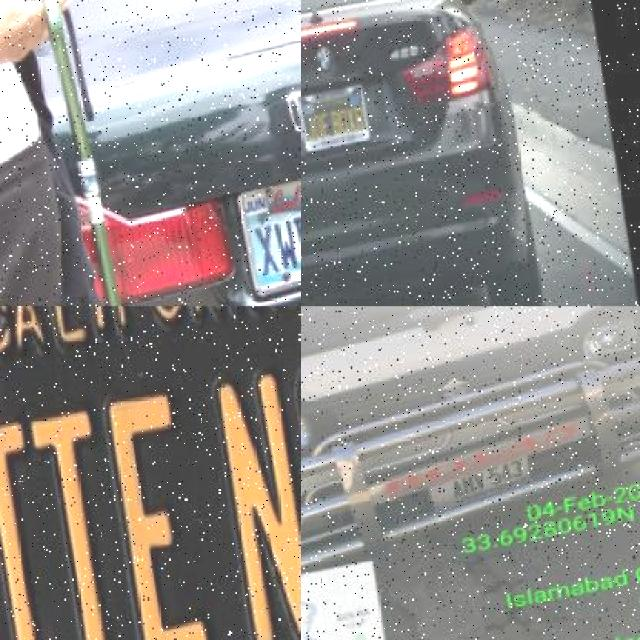licenseplate: (0, 332, 300, 640), (234, 164, 300, 294), (433, 456, 539, 512), (300, 83, 371, 157)
